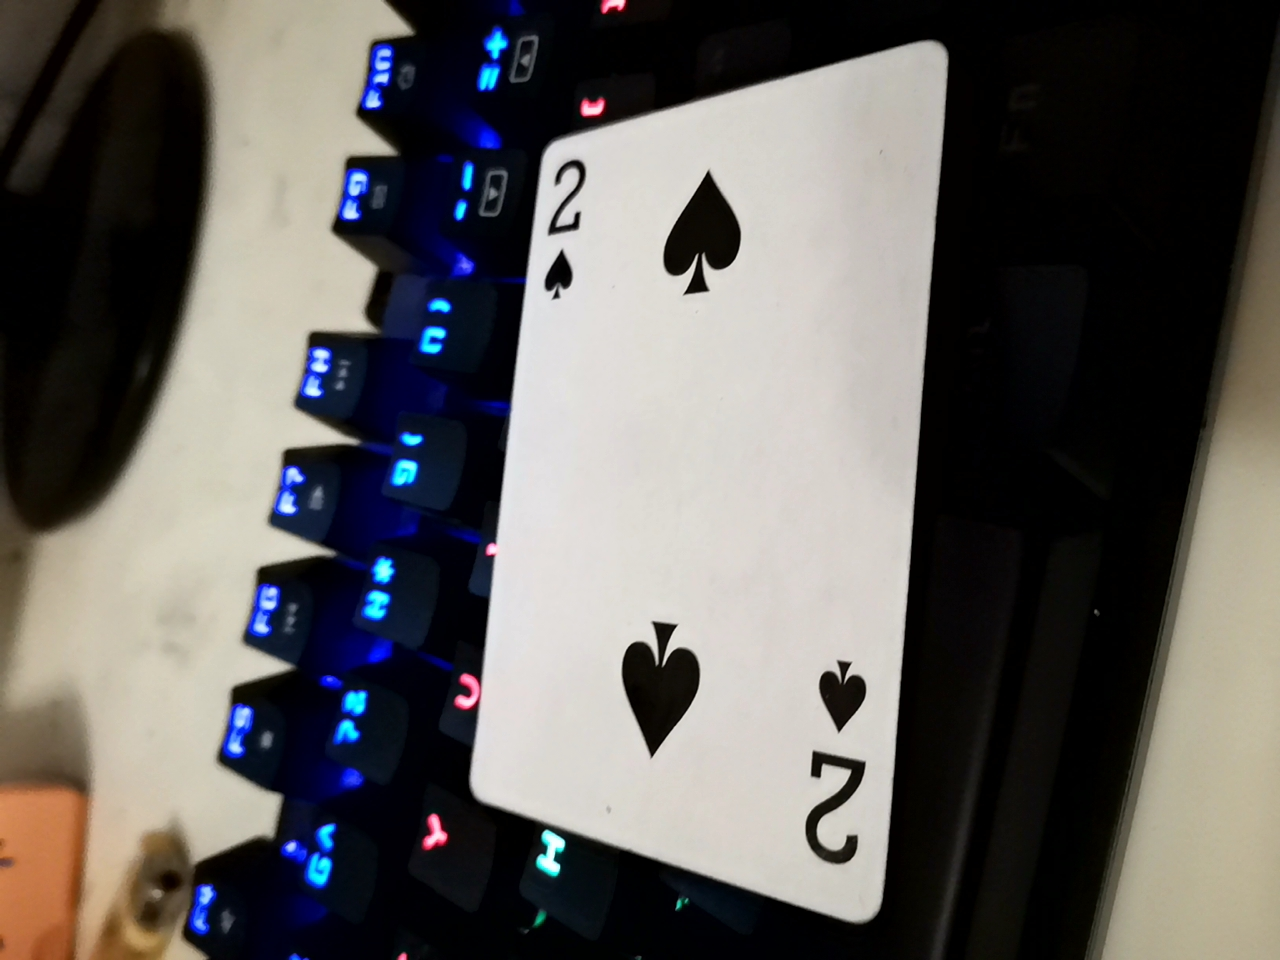ht 2: (461, 62, 932, 932)
